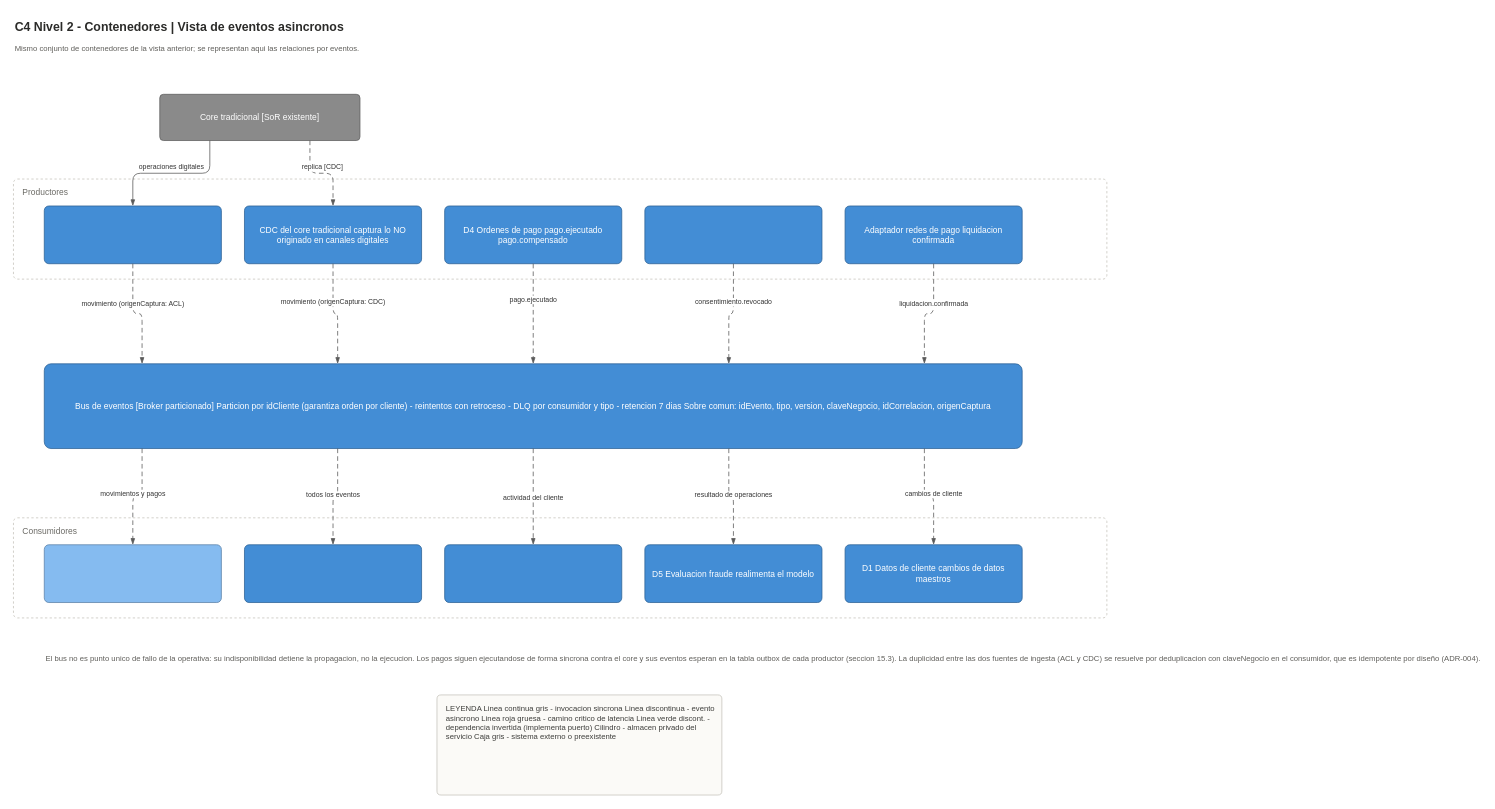
The diagram is 1495 pixels wide and 809 high, and some of its shapes have lost their labels. The box of each missing label's shape, as (x1, y1, x2, y2) in pixels:
ACL del core tradicional emite evento por cada operacion que el origina: (44, 205, 221, 264)
D3 Posicion consolidada actualiza la proyeccion: (44, 544, 221, 603)
D6 Evaluacion riesgo actualiza perfil: (444, 544, 622, 603)
D7 Consentimientos consentimiento.revocado: (644, 205, 822, 264)
D8 Historial eventos registro inmutable escritura unica: (244, 544, 422, 603)
